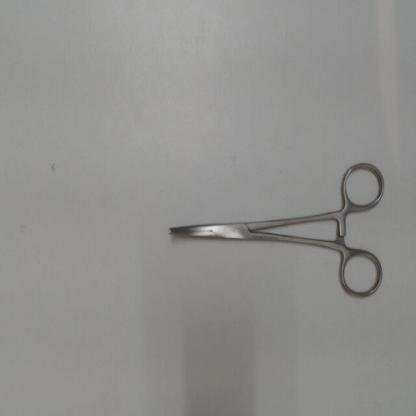Crile Artery Forceps: (157, 152, 393, 310)
